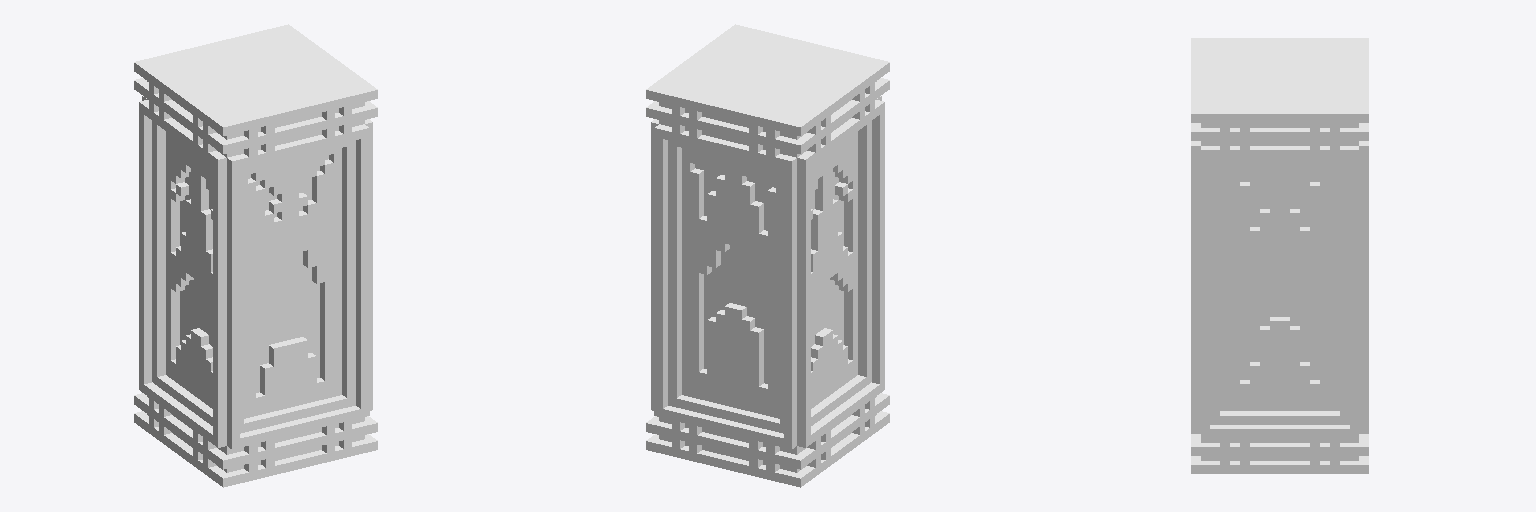
File: Pillar2.obj
The picture shows the model from 3 angles: view 1: azimuth 30°, elevation 25°; view 2: azimuth 150°, elevation 25°; view 3: azimuth 270°, elevation 25°; orthographic projection.
Visible parts, largest first — view 1: object 1; view 2: object 1; view 3: object 1.
Part boxes in pixels (bbox=[...]): object 1: bbox=[134, 24, 377, 487]; object 1: bbox=[646, 24, 889, 487]; object 1: bbox=[1191, 38, 1368, 473].
Bounding box in the file's own units: 1.8 × 4 × 1.8.